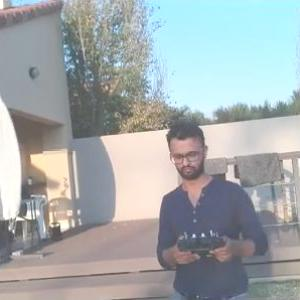follow: (154, 113, 275, 299)
